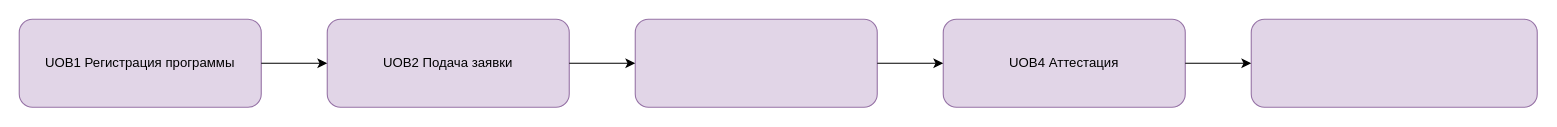
Image size: 1557x127. Some labels were removed from this diagram. The shapes that lost their labels are listed below. From the top down, each one's centre as x and y in pixels, then its label:
At point 755,62: "UOB3 Оплата".
At point 1393,62: "UOB5 Выдача удостоверения".
